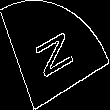N_SW: (31, 26, 79, 84)
